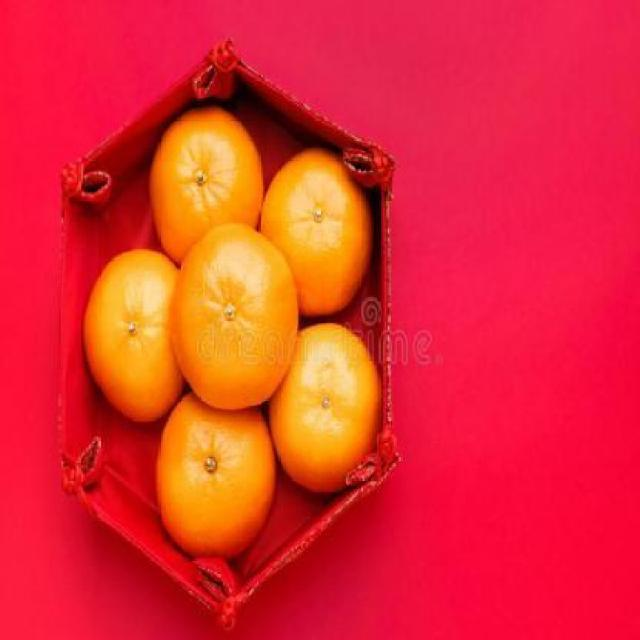Jeruk Sudah Matang: (170, 228, 298, 410), (252, 143, 374, 328), (162, 389, 276, 563), (148, 101, 264, 270), (84, 250, 192, 428), (269, 323, 377, 494)
